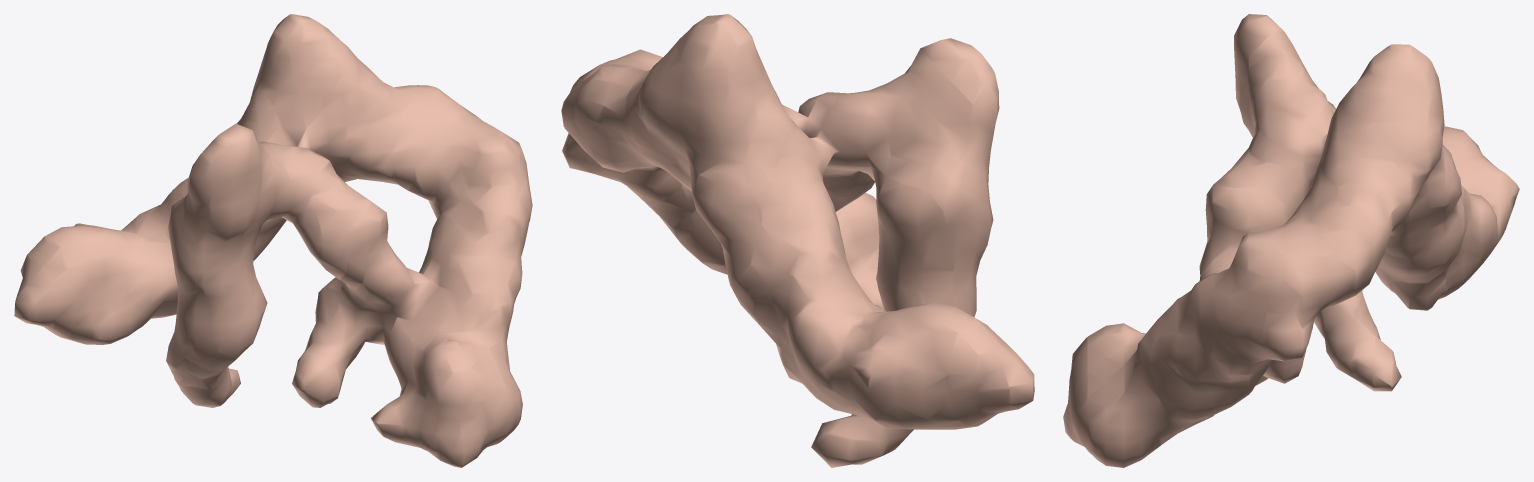
Rendered from HIV1_P6_VPR_0_1_2.dae.
3 views of the same model, side by side, from view 1: azimuth 30°, elevation 25°; view 2: azimuth 150°, elevation 25°; view 3: azimuth 270°, elevation 25° (orthographic). The views are drawn at different scales.
Visible parts, largest first — view 1: CoarseMS_HIV1_P6_VPR; view 2: CoarseMS_HIV1_P6_VPR; view 3: CoarseMS_HIV1_P6_VPR.
Boxes of the visible parts, x1,y1,x2,y2 form: CoarseMS_HIV1_P6_VPR: (14,14,532,467); CoarseMS_HIV1_P6_VPR: (561,14,1034,467); CoarseMS_HIV1_P6_VPR: (1063,14,1519,467).
Bounding box in the file's own units: 74.95 × 56.28 × 59.2.
